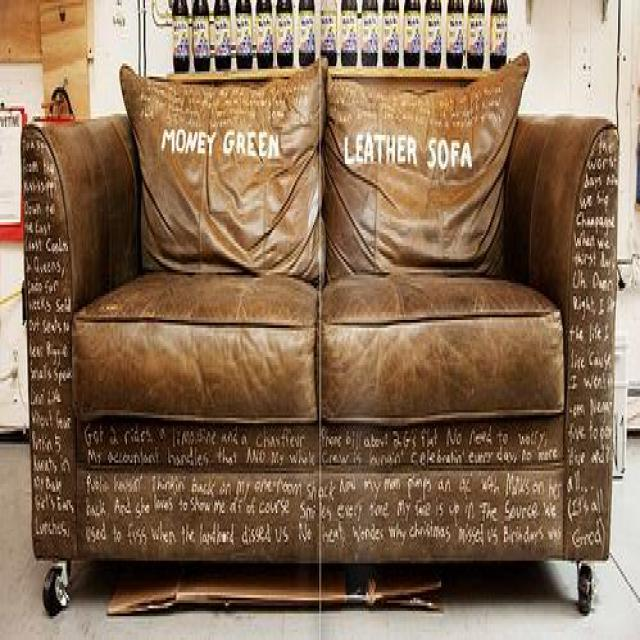sofa: (17, 66, 618, 612)
